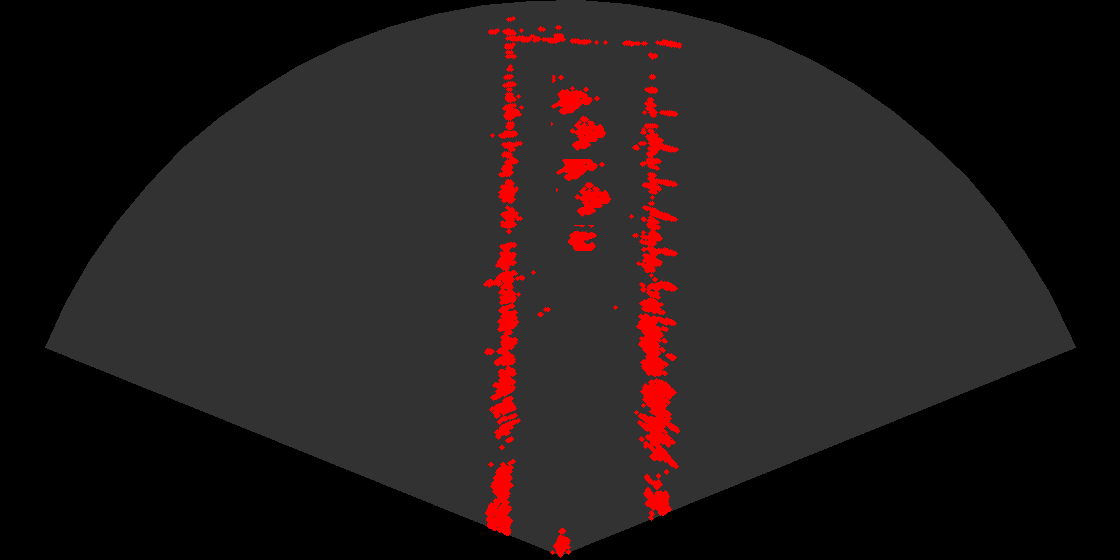ball: (548, 213, 608, 254)
cage: (556, 141, 619, 225), (551, 75, 614, 159)
